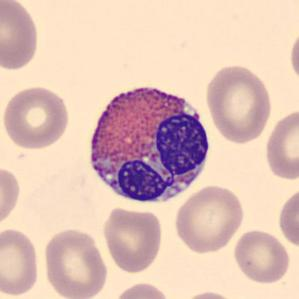Eosinophil: (80, 76, 217, 211)
RBC: (203, 62, 274, 145), (172, 183, 247, 255), (40, 225, 110, 299), (0, 83, 72, 150), (100, 205, 166, 274), (231, 228, 291, 285), (0, 225, 42, 298), (0, 0, 42, 72), (262, 106, 298, 183), (0, 163, 22, 230), (276, 185, 298, 251), (112, 280, 172, 299), (287, 24, 299, 87), (178, 288, 242, 299)
